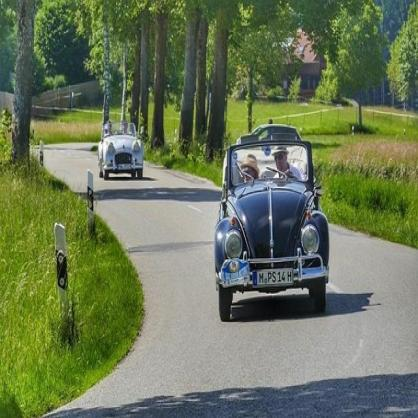car: (217, 126, 332, 324), (101, 117, 143, 183)
